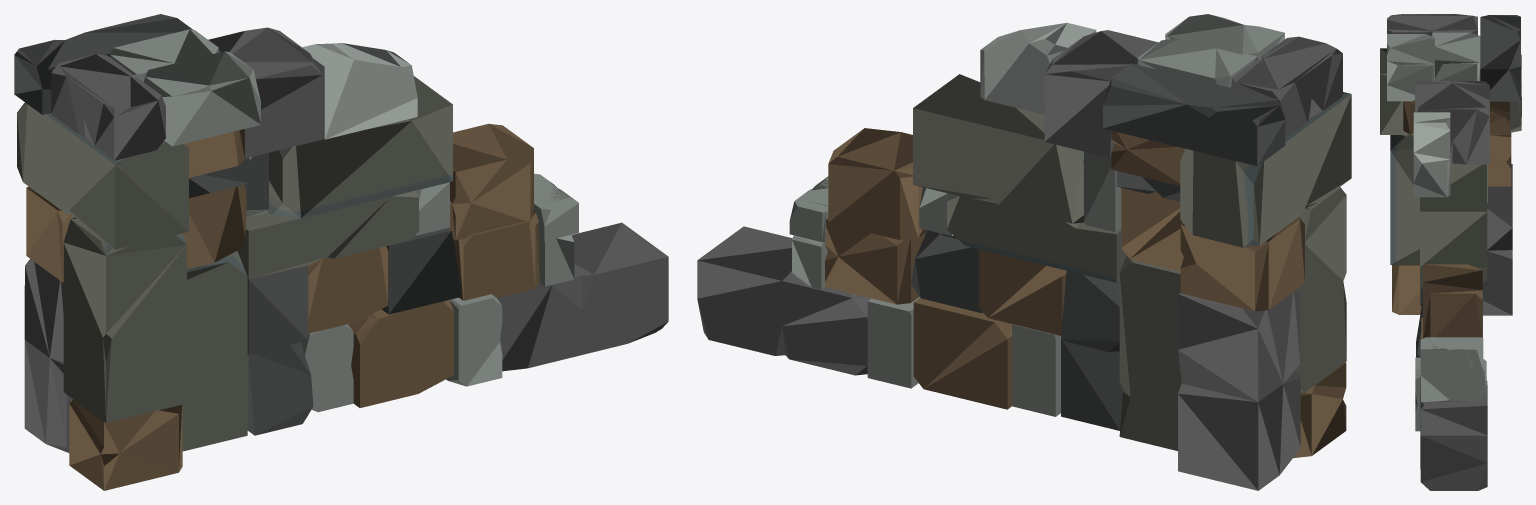
The model's file is ZLP_Build_D_33.FBX.
3 views of the same model, side by side, from view 1: azimuth 30°, elevation 25°; view 2: azimuth 150°, elevation 25°; view 3: azimuth 270°, elevation 25° (orthographic). The views are drawn at different scales.
Parts seen in each view (by area): view 1: ZLP_Build_D_33; view 2: ZLP_Build_D_33; view 3: ZLP_Build_D_33.
Part boxes in pixels (bbox=[...]): ZLP_Build_D_33: bbox=[14, 14, 668, 490]; ZLP_Build_D_33: bbox=[697, 14, 1351, 490]; ZLP_Build_D_33: bbox=[1380, 14, 1521, 490].
Bounding box in the file's own units: 304 × 189 × 88.61.
